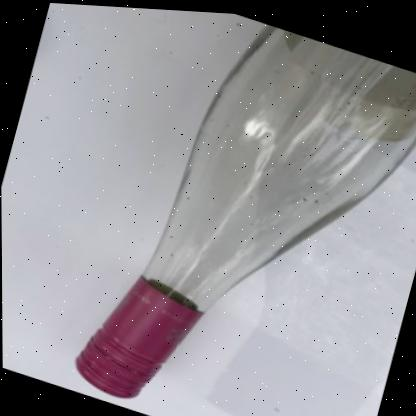Glass: (75, 20, 416, 396)
